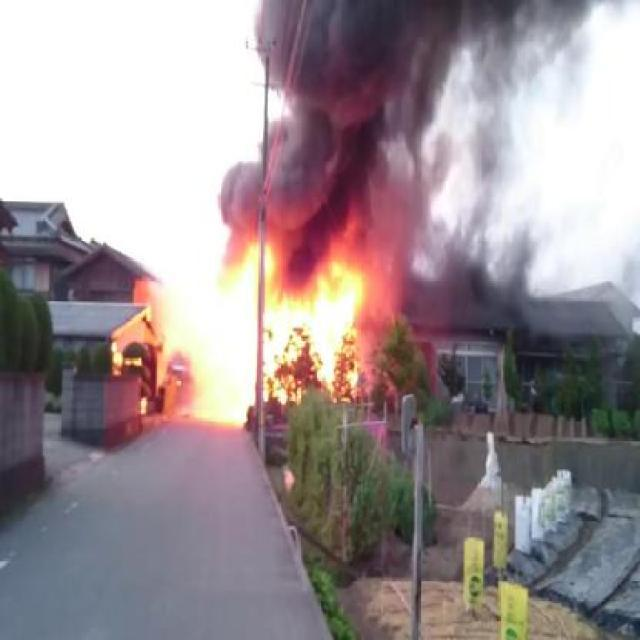Fire: (137, 226, 372, 424)
Smoke: (218, 7, 597, 216)
